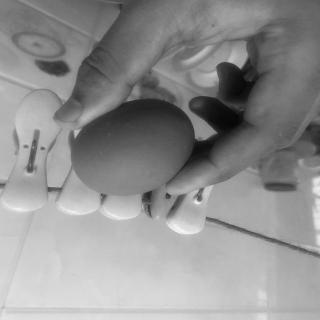Telur: (69, 98, 197, 198)
